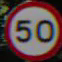Speed limit: (3, 2, 59, 56)
